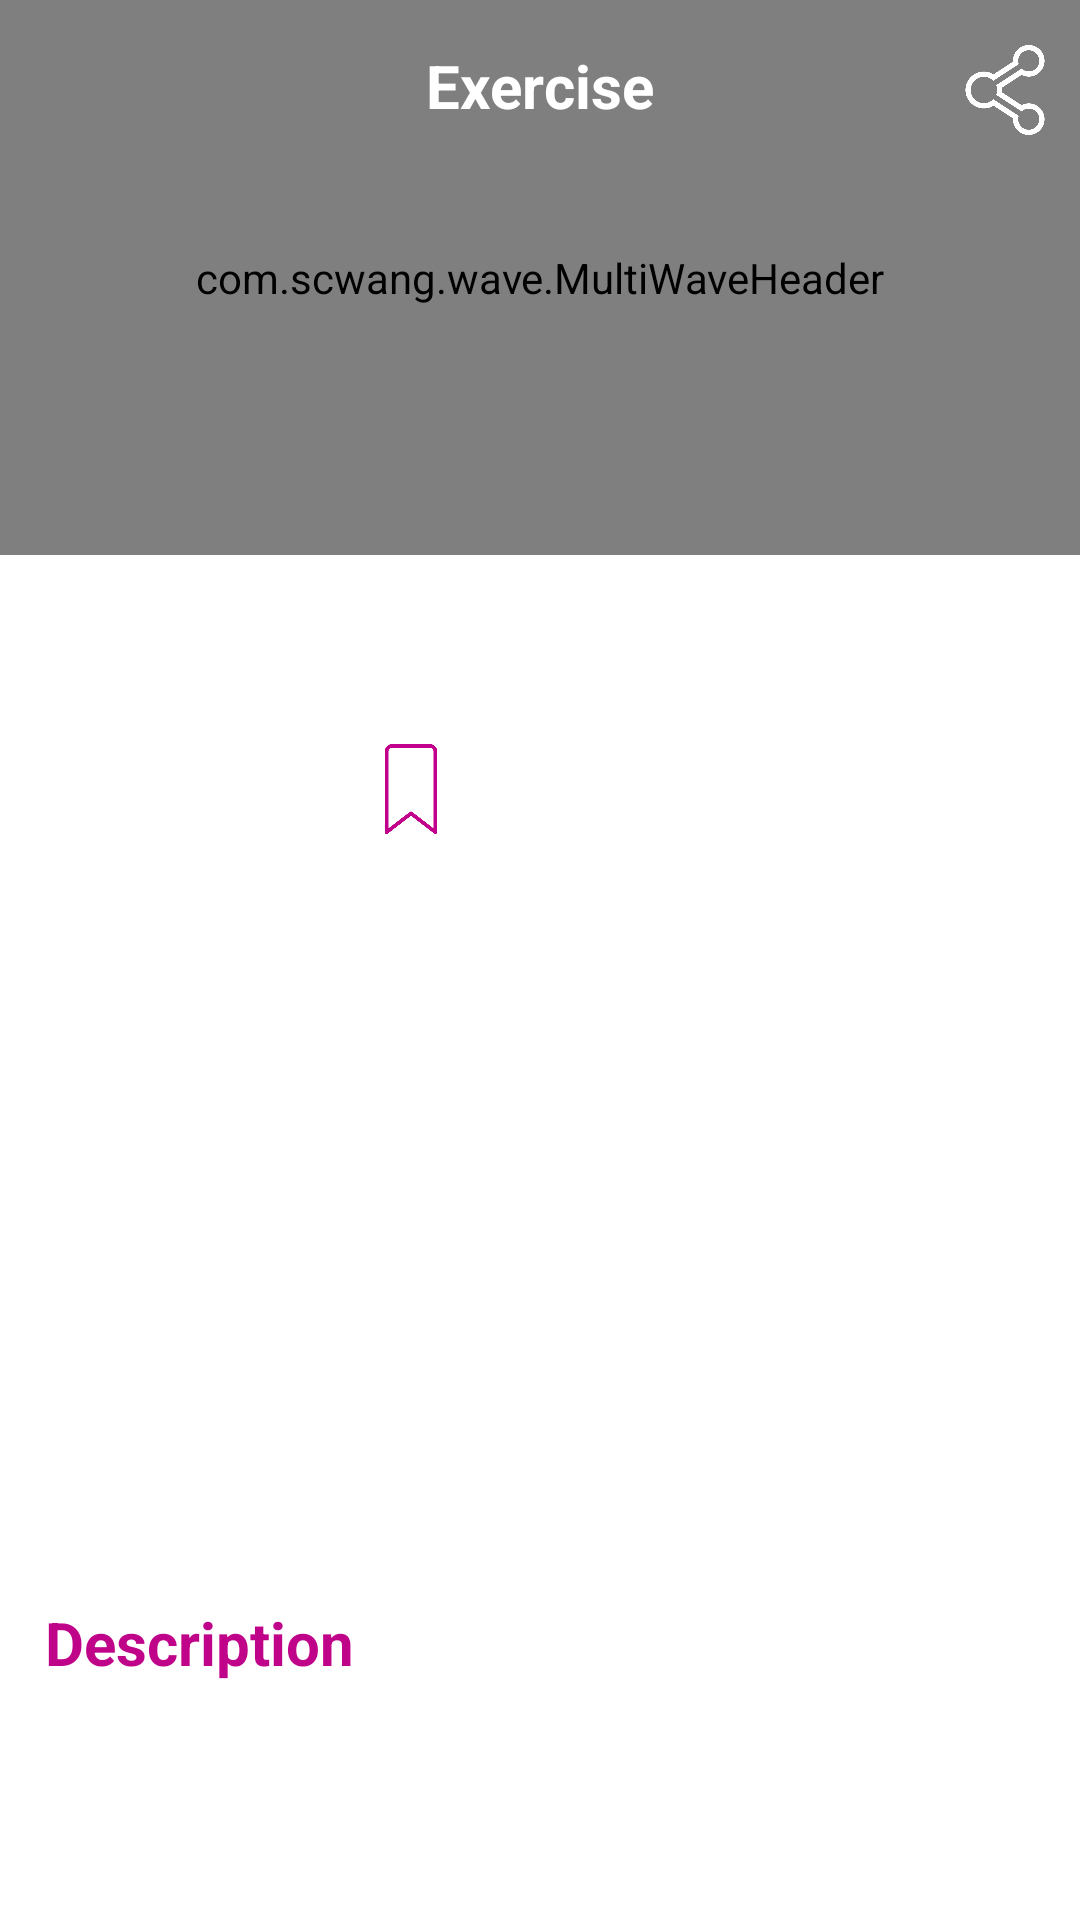

Icons on this 1080px×1920px Android screen, each with the point to tap as (x,y):
bookmark: (411,789)
share: (1005,90)
